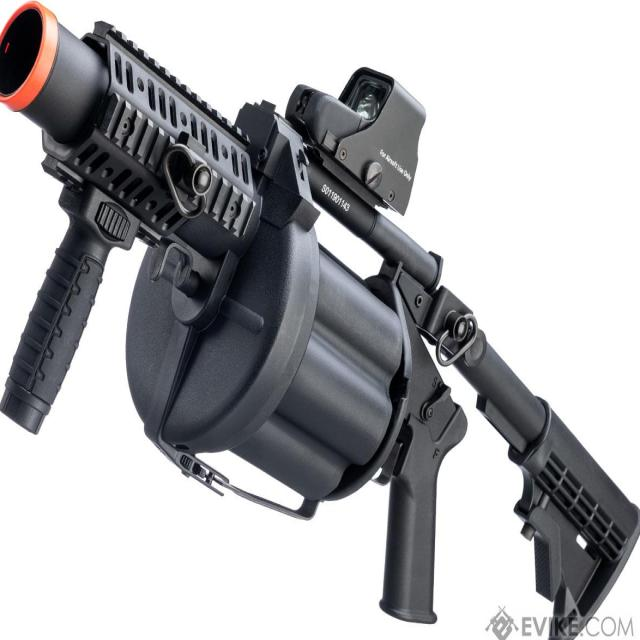Weapon: (0, 1, 640, 630)
